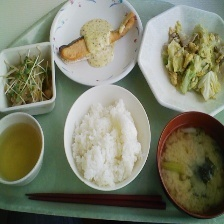dal: (0, 119, 43, 184)
